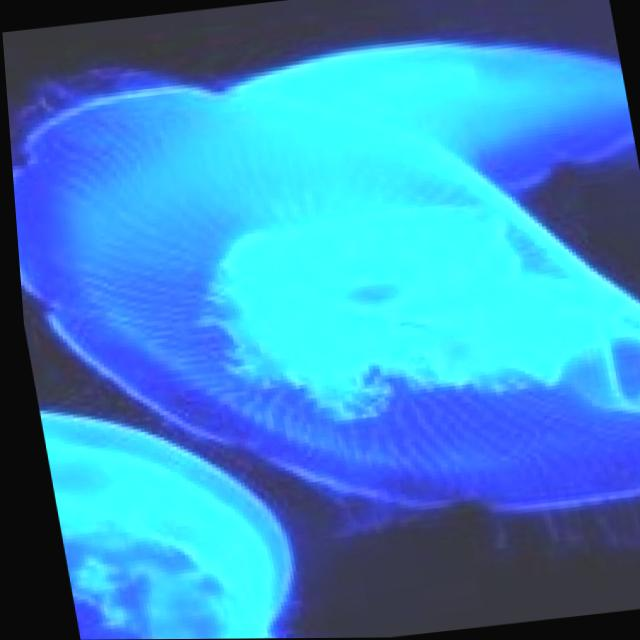Box-jellyfish: (1, 11, 640, 571)
Moon-jellyfish: (29, 381, 297, 640)
